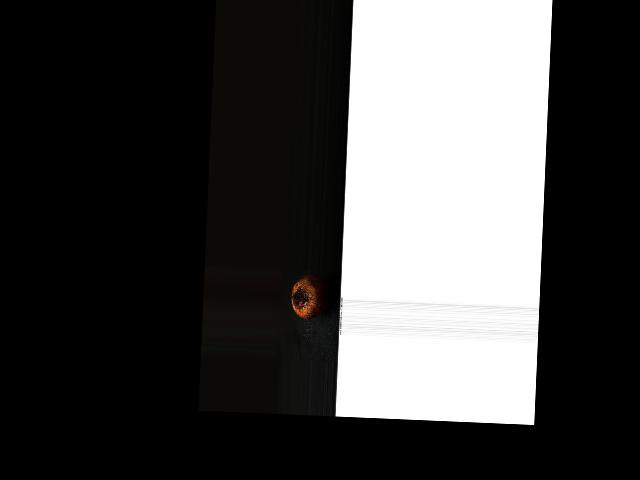beet: (291, 272, 332, 319)
